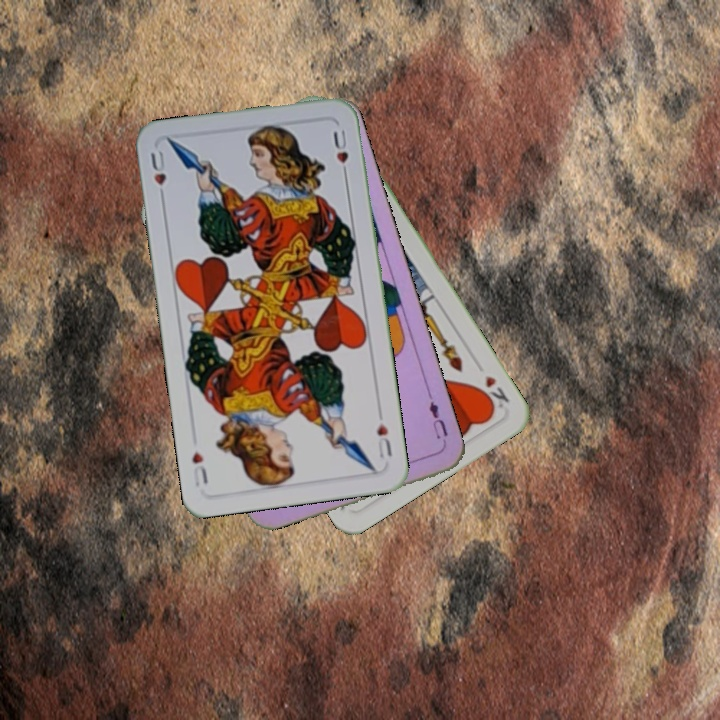EU: (424, 391, 451, 449)
HK: (475, 371, 512, 413)
HU: (146, 146, 169, 204), (373, 419, 395, 462)
